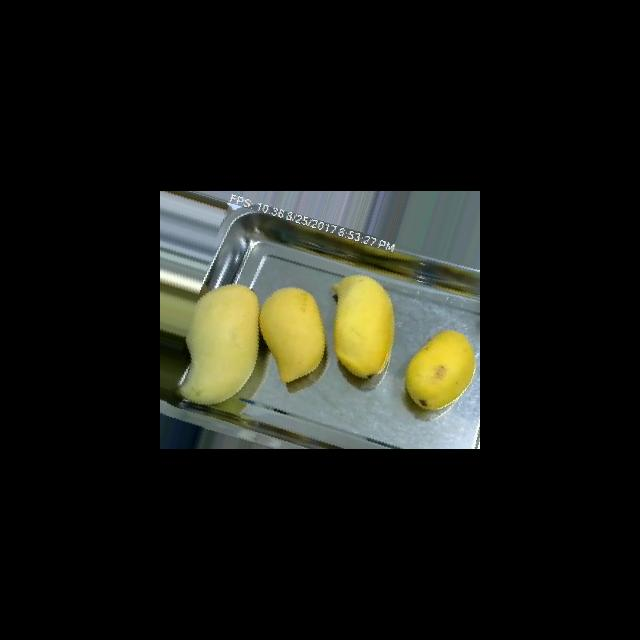Mango: (179, 283, 259, 405), (332, 274, 394, 379), (259, 286, 325, 383), (404, 329, 476, 410)
